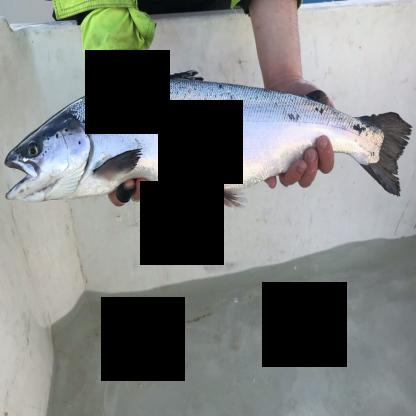fish: (4, 70, 412, 202)
